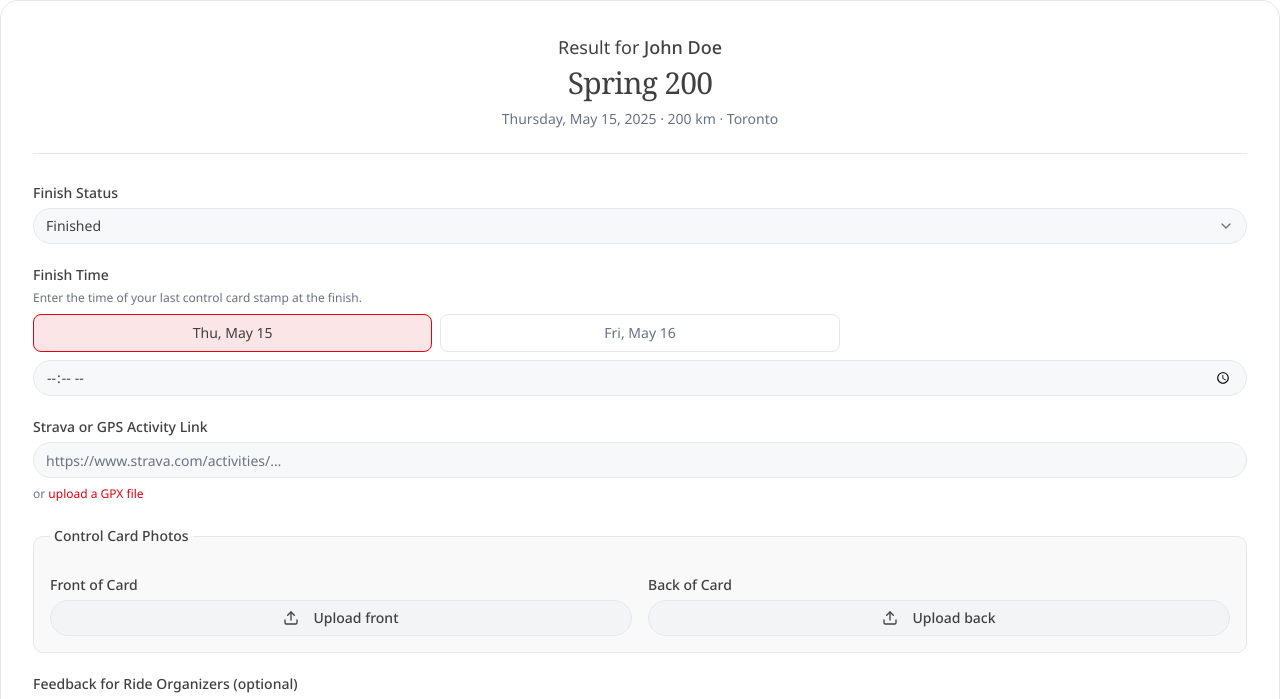
Scenario: ResultSubmissionForm › validation › shows an OTL warning when the typed finish time exceeds the ACP cutoff
Type "20:00" into the time field labelled "Finish Time".
click(640, 378); type("20:00")  # box [33,360,1247,396]
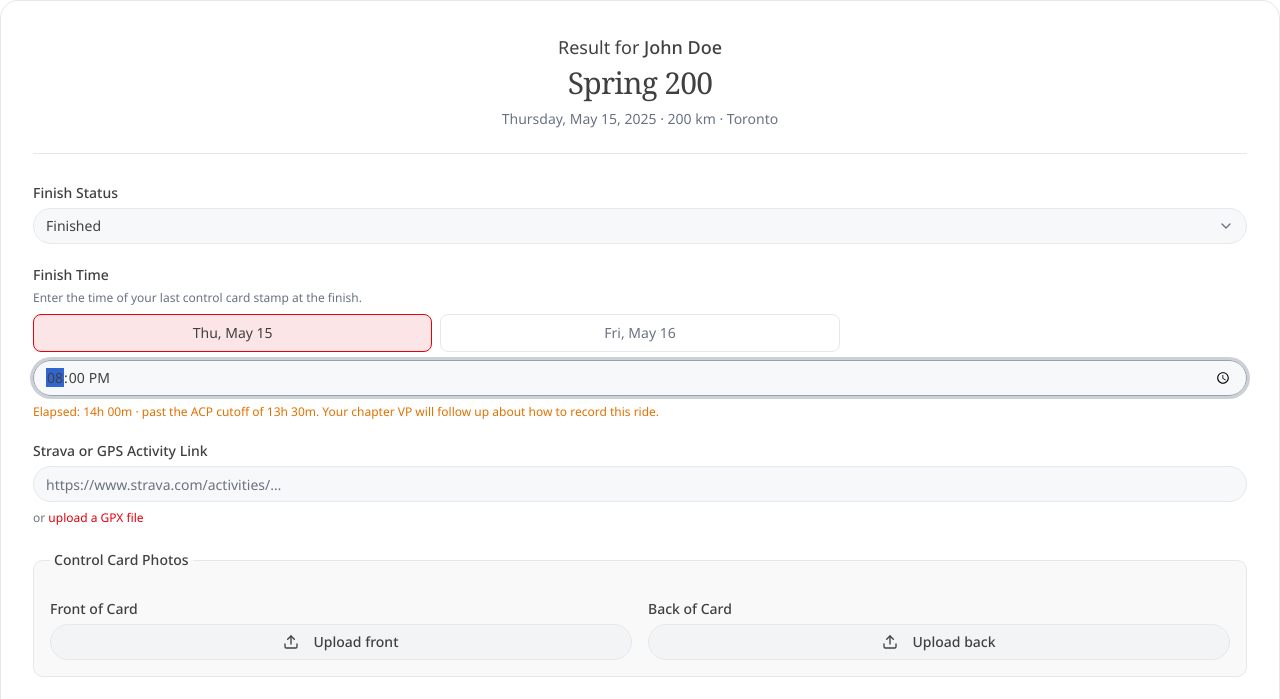
expect the text "past the ACP cutoff of 13h 30m" is shown: met, box [33,403,659,420]
